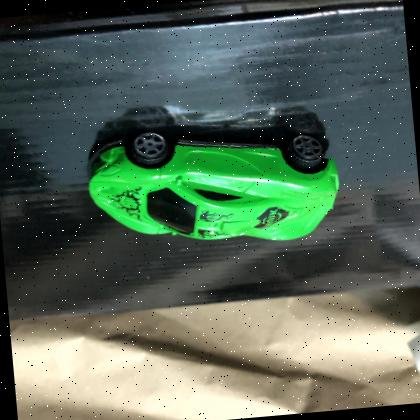Car: (87, 129, 339, 240)
